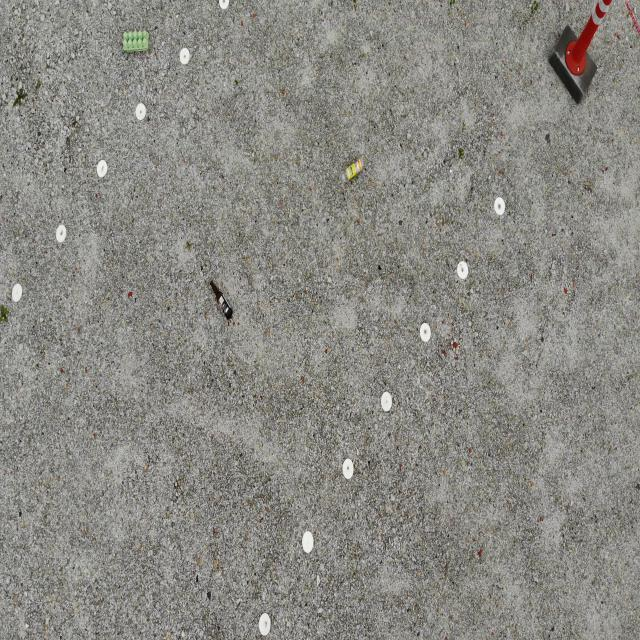rubbish: (210, 276, 233, 320), (122, 28, 149, 52), (341, 155, 366, 180)
